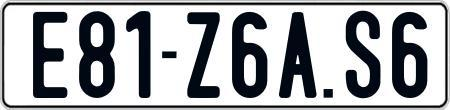1: (125, 9, 154, 96)
6: (392, 12, 433, 98), (229, 12, 267, 101)
8: (79, 8, 121, 95)
A: (276, 12, 314, 103)
E: (31, 9, 71, 99)
S: (345, 8, 382, 101)
Z: (186, 12, 223, 101)
